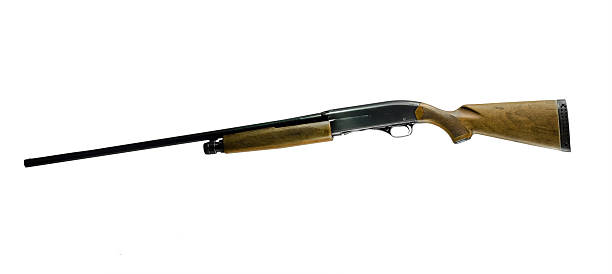shotgun: (23, 96, 579, 167)
